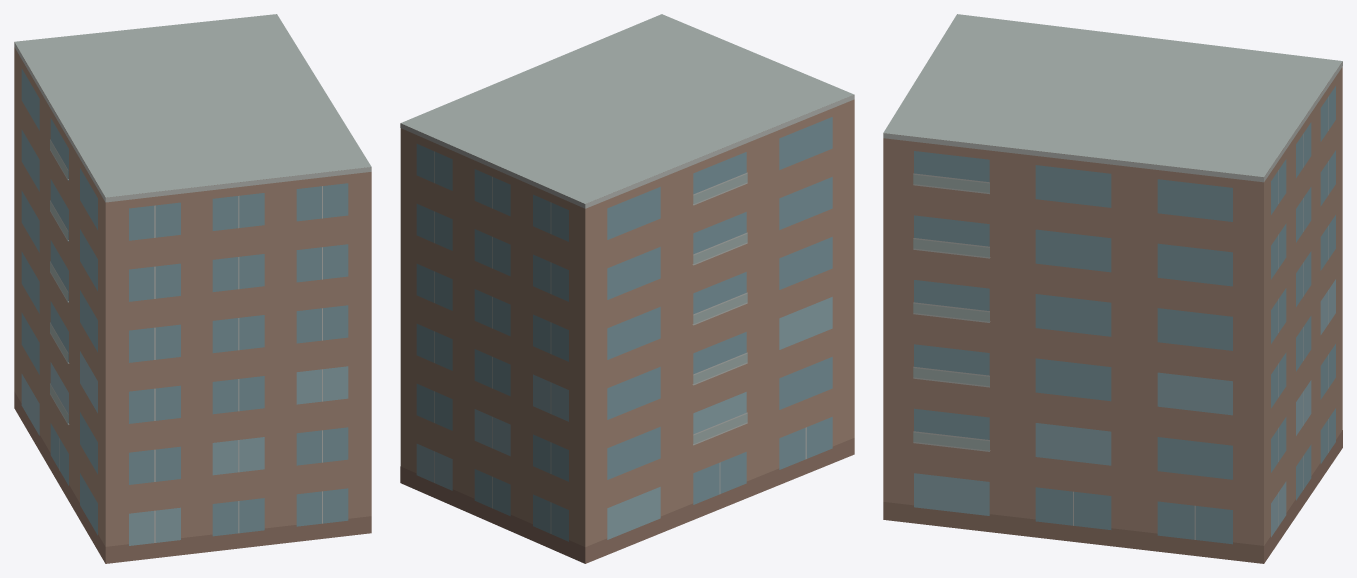
The model's file is survey-upis-33013957.glb.
The picture shows the model from 3 angles, left to right: view 1: azimuth 30°, elevation 25°; view 2: azimuth 150°, elevation 25°; view 3: azimuth 270°, elevation 25°; orthographic projection. The views are drawn at different scales.
Parts seen in each view (by area): view 1: survey-upis-33013957.tmp; view 2: survey-upis-33013957.tmp; view 3: survey-upis-33013957.tmp.
Boxes of the visible parts, x1=… form: survey-upis-33013957.tmp: x1=14, y1=14, x2=371, y2=563; survey-upis-33013957.tmp: x1=400, y1=14, x2=854, y2=563; survey-upis-33013957.tmp: x1=883, y1=14, x2=1342, y2=563.
Bounding box in the file's own units: 16.66 × 18.4 × 19.83.
